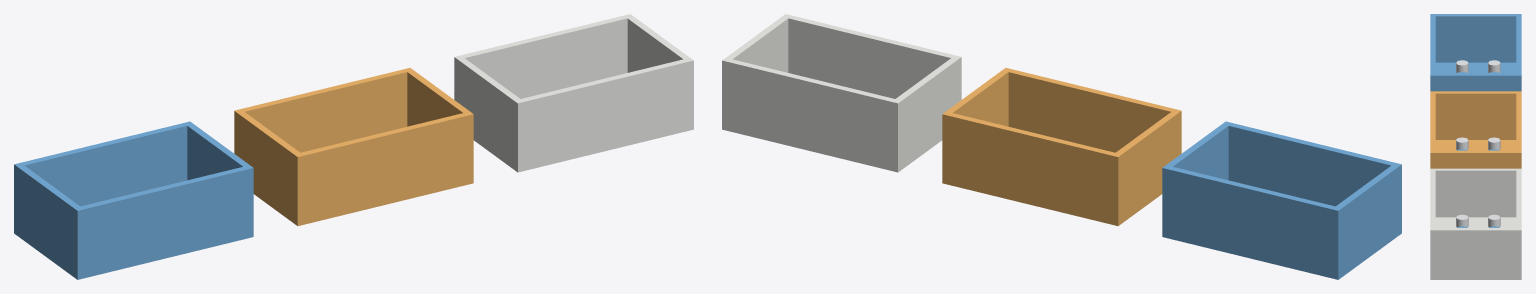
File: parts-bins.glb
3 views of the same model, side by side, from view 1: azimuth 30°, elevation 25°; view 2: azimuth 150°, elevation 25°; view 3: azimuth 270°, elevation 25° (orthographic). The views are drawn at different scales.
Parts seen in each view (by area): view 1: body; view 2: body; view 3: body.
Boxes of the visible parts, x1,y1,x2,y2 form: body: (14,14,693,279); body: (722,14,1401,279); body: (1430,14,1521,279).
Size of the model in its own units: 0.56 by 0.06 by 0.1.
